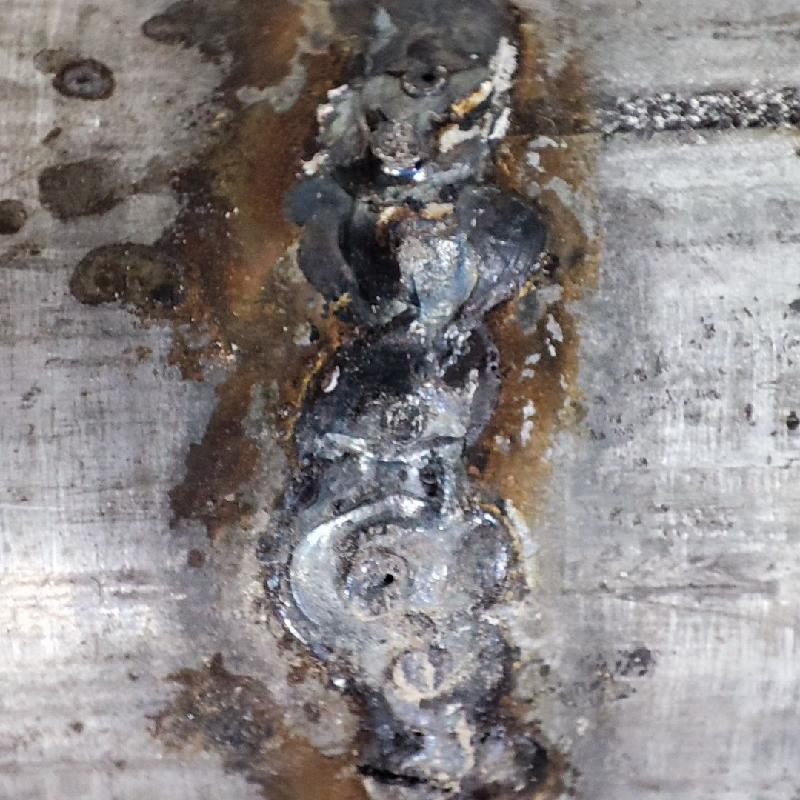Not_fully_soldered: (290, 500, 528, 786)
Surface_pores: (346, 549, 413, 609), (405, 54, 448, 99)
wrong_size: (293, 3, 549, 492)
